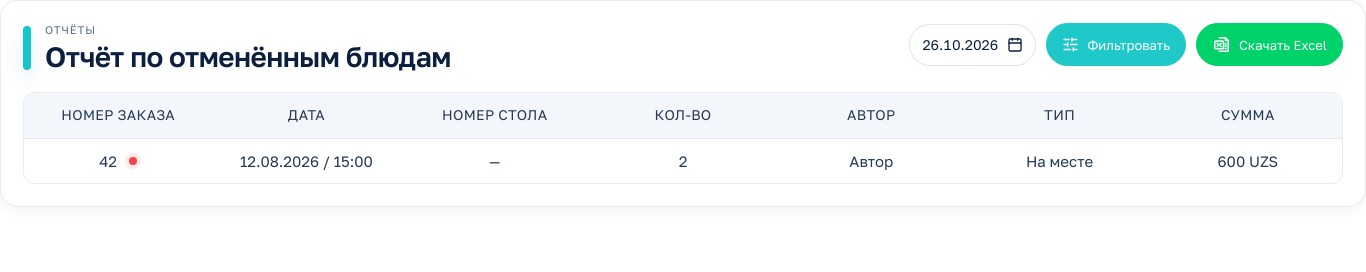
CTR-01 critical financial truth › renders cancelled truth from backend fields without fabrication
Click the row named "Заказ №42" at (683, 161), box 24,139 -> 1342,183
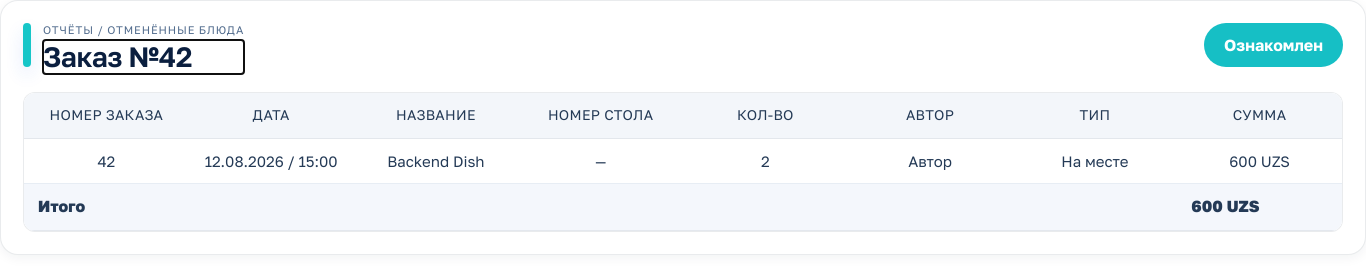
Expected: the column heading "Номер заказа" is shown, 24,93 -> 189,139
Result: the text "Backend Dish" is shown at 387,152 -> 485,170
Result: the column heading "Название" is shown at 354,93 -> 518,139
